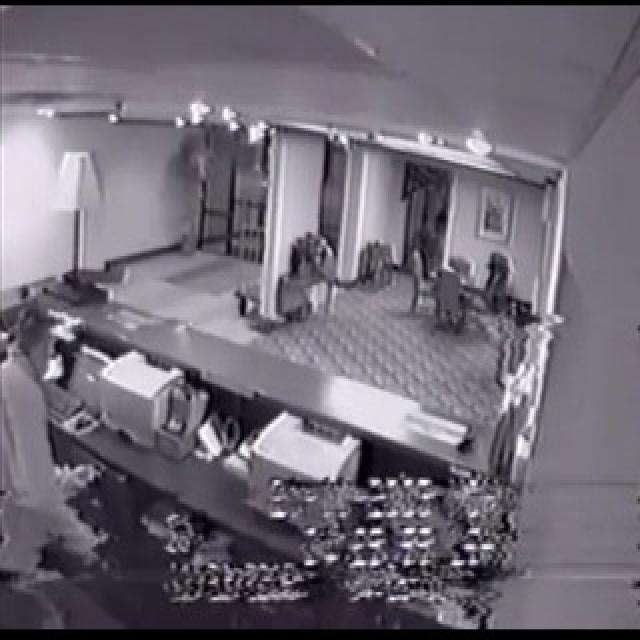thief: (0, 277, 116, 607)
